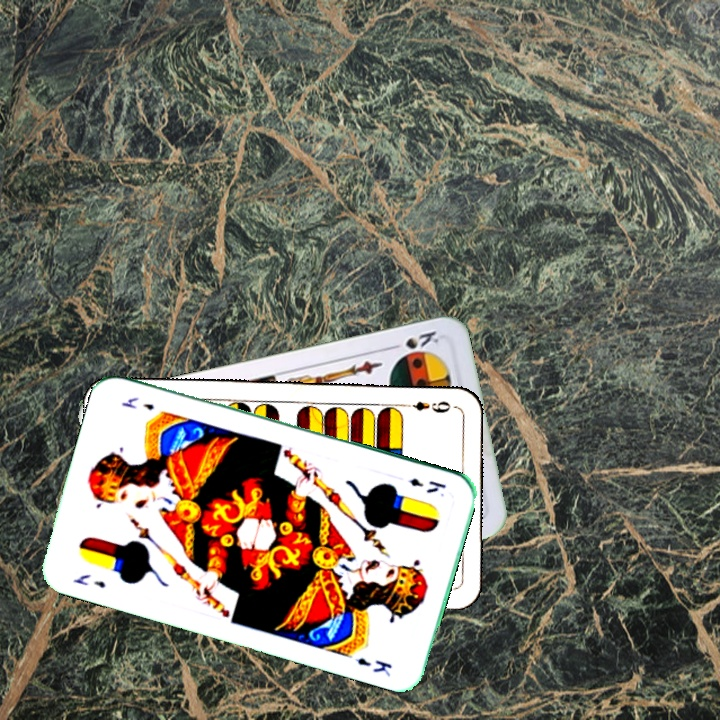E9: (399, 397, 453, 416)
EK: (405, 473, 449, 496), (69, 570, 108, 591)
SK: (384, 327, 442, 352)
